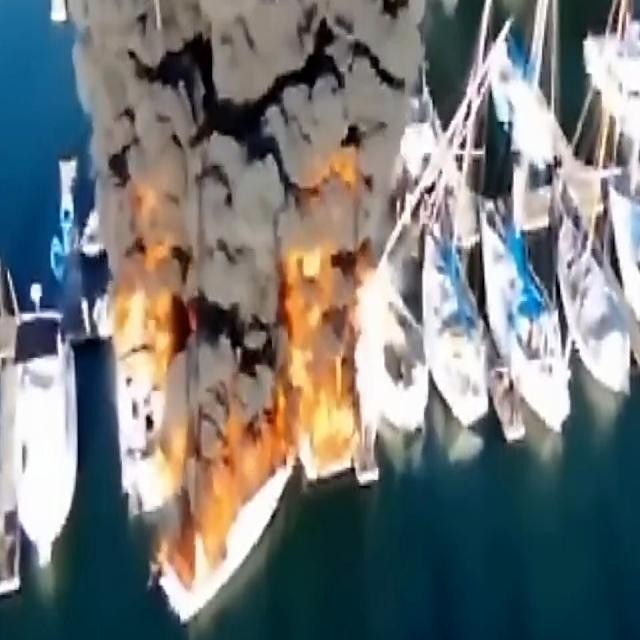fire: (280, 257, 354, 448), (97, 252, 174, 353)
smoke: (80, 0, 383, 228), (186, 0, 271, 418)
